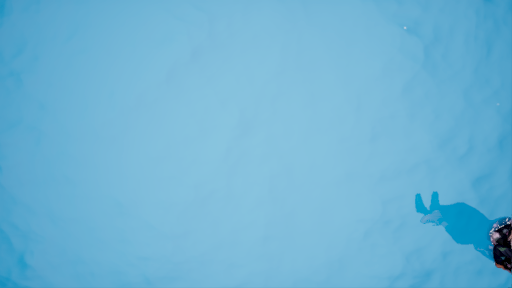person: (409, 190, 512, 263)
